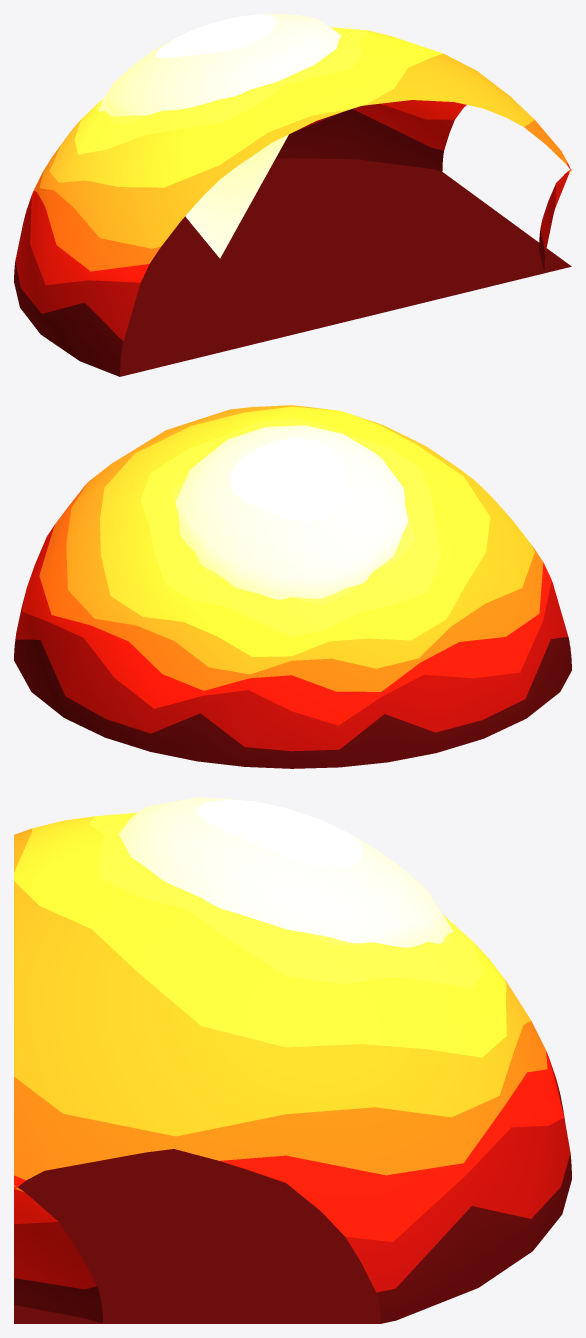
The model's file is shot_charge_b188.glb.
3 renders of one model, top to bottom at view 1: azimuth 30°, elevation 25°; view 2: azimuth 150°, elevation 25°; view 3: azimuth 270°, elevation 25°, orthographic. The views are drawn at different scales.
Parts seen in each view (by area): view 1: charge_twin5_b_fire_shot_charge_b188, charge_twin5_b_core_shot_charge_b188, charge_twin5_a_fire_shot_charge_b188; view 2: charge_twin5_b_fire_shot_charge_b188, charge_twin5_b_core_shot_charge_b188; view 3: charge_twin5_b_fire_shot_charge_b188, charge_twin5_b_core_shot_charge_b188, charge_twin5_a_fire_shot_charge_b188.
Boxes of the visible parts, left/top/right/bottom form: charge_twin5_b_fire_shot_charge_b188: left=14, top=27, right=571, bottom=376; charge_twin5_b_core_shot_charge_b188: left=99, top=14, right=341, bottom=258; charge_twin5_a_fire_shot_charge_b188: left=539, top=169, right=571, bottom=271; charge_twin5_b_fire_shot_charge_b188: left=14, top=405, right=571, bottom=768; charge_twin5_b_core_shot_charge_b188: left=175, top=425, right=407, bottom=599; charge_twin5_b_fire_shot_charge_b188: left=14, top=812, right=571, bottom=1323; charge_twin5_b_core_shot_charge_b188: left=119, top=797, right=453, bottom=947; charge_twin5_a_fire_shot_charge_b188: left=14, top=1185, right=102, bottom=1323.
Size of the model in its own units: 10.97 by 5.37 by 8.
